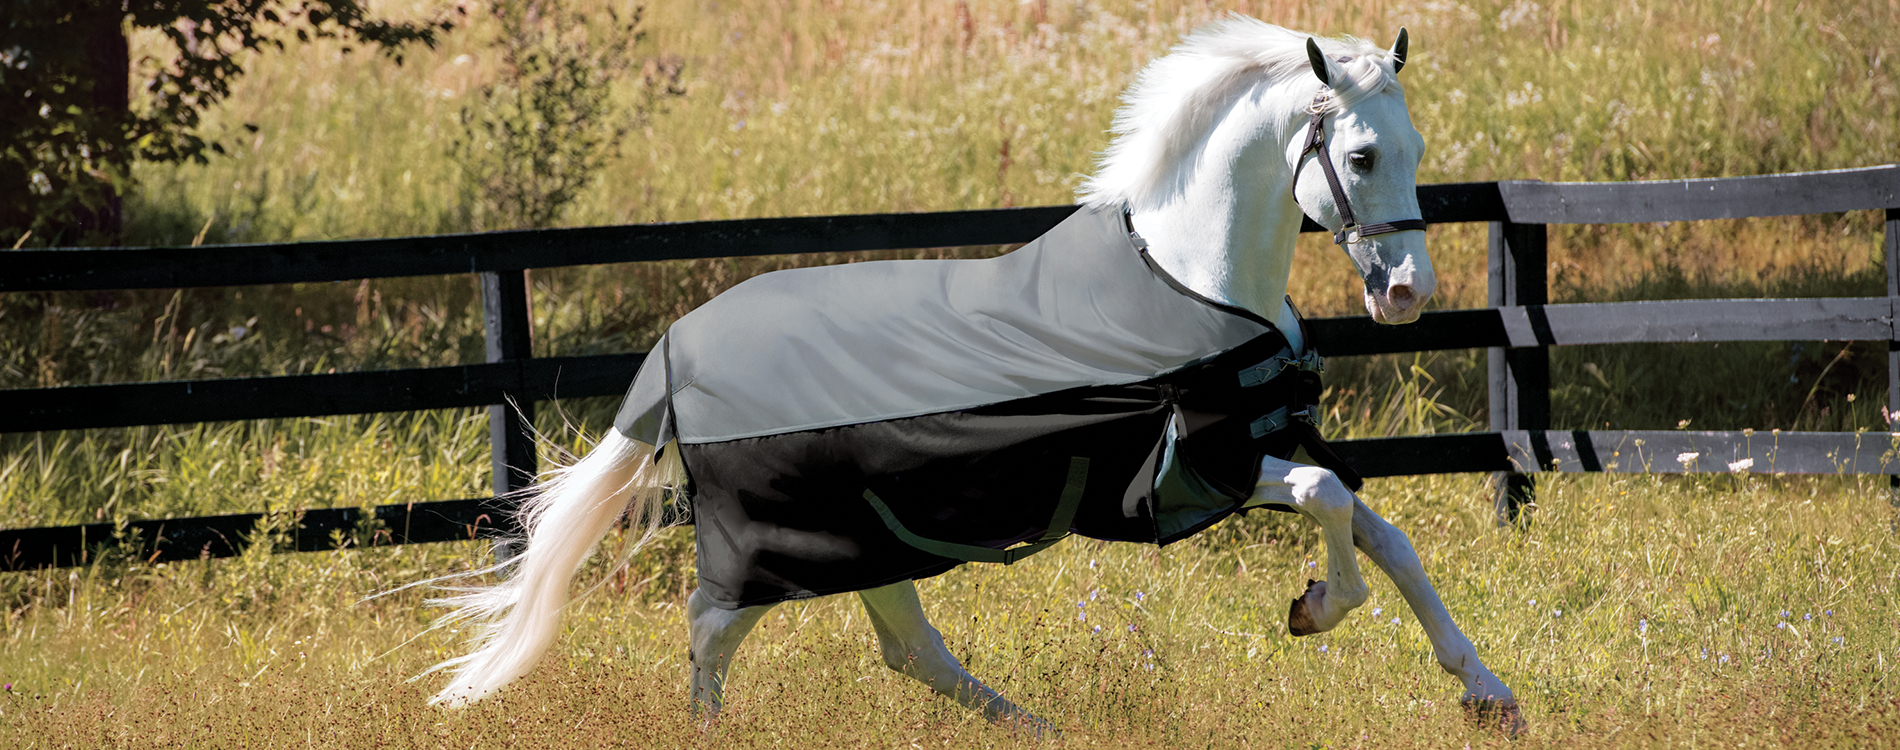Horse: (477, 18, 1558, 734)
